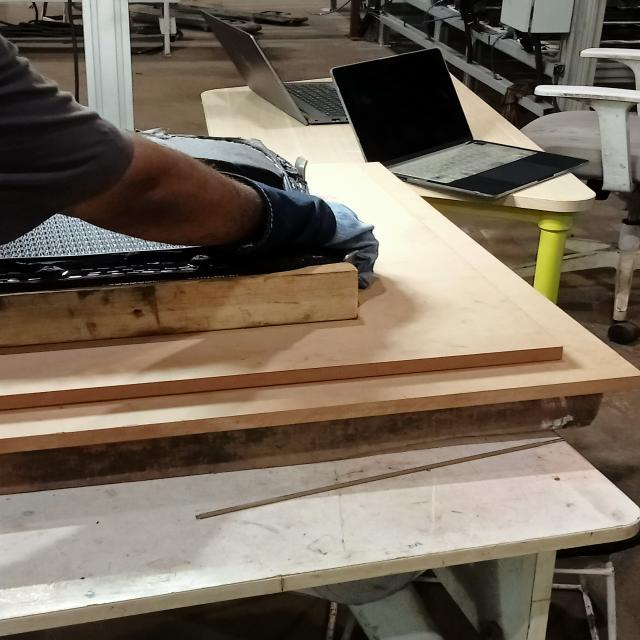Gloves-Detection: (234, 174, 381, 273)
